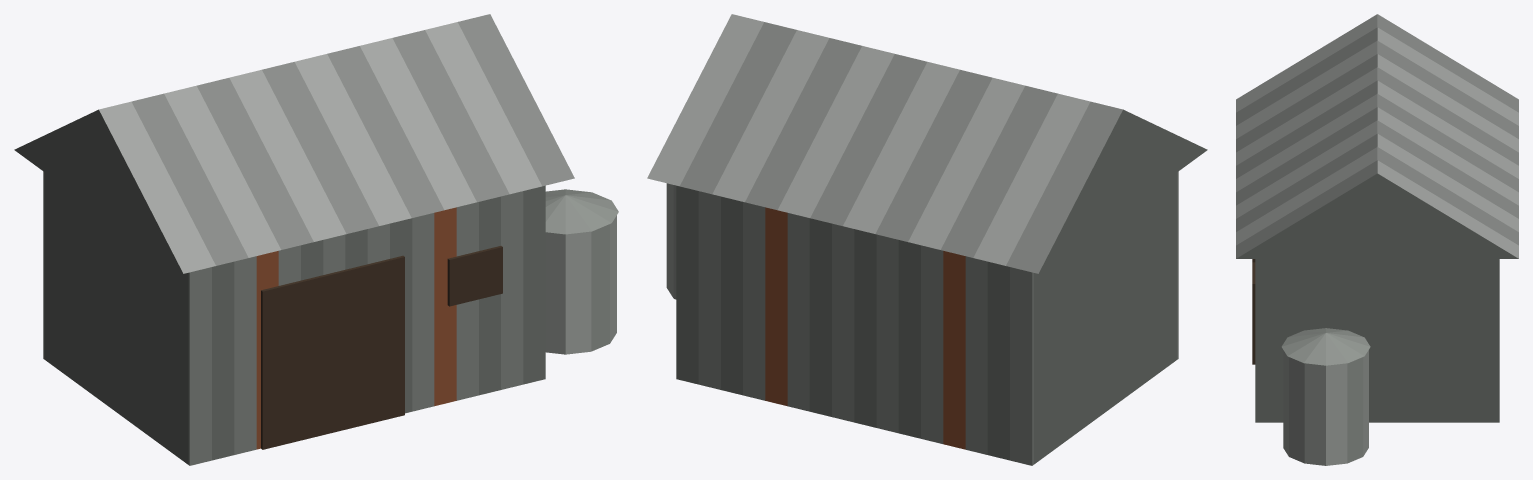
Rendered from tin_shed.glb.
3 renders of one model, left to right at view 1: azimuth 30°, elevation 25°; view 2: azimuth 150°, elevation 25°; view 3: azimuth 270°, elevation 25°, orthographic. The views are drawn at different scales.
Parts seen in each view (by area): view 1: tin_shed2; view 2: tin_shed2; view 3: tin_shed2.
Boxes of the visible parts, left/top/right/bottom form: tin_shed2: left=14, top=14, right=618, bottom=465; tin_shed2: left=647, top=14, right=1207, bottom=465; tin_shed2: left=1236, top=14, right=1518, bottom=465.
Size of the model in its own units: 5.42 by 3.3 by 3.3.
